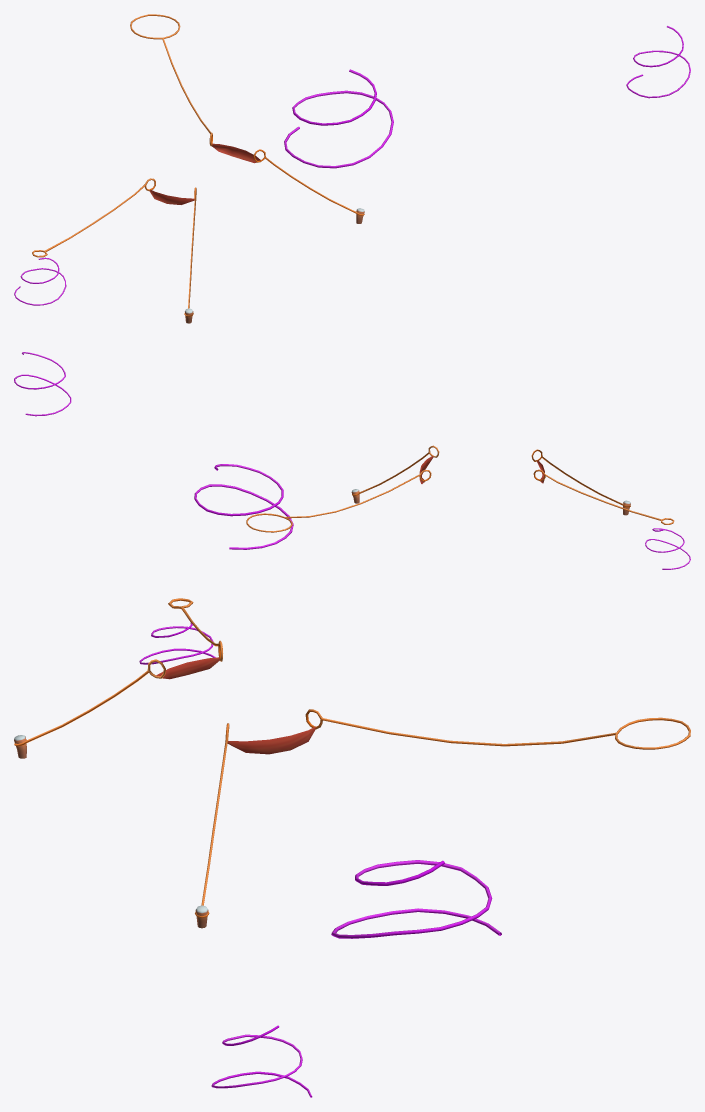
The picture shows the model from 3 angles, top to bottom: view 1: azimuth 30°, elevation 25°; view 2: azimuth 150°, elevation 25°; view 3: azimuth 270°, elevation 25°; orthographic projection. The views are drawn at different scales.
Parts seen in each view (by area): view 1: wk_s_51; view 2: wk_s_51; view 3: wk_s_51.
Boxes of the visible parts, box(x1,y1,x2,y2) form: wk_s_51: box(14, 14, 690, 323); wk_s_51: box(14, 352, 690, 569); wk_s_51: box(14, 598, 690, 1097).
Bounding box in the file's own units: 36.96 × 20.64 × 5.22.
1 material, 1 textured.
